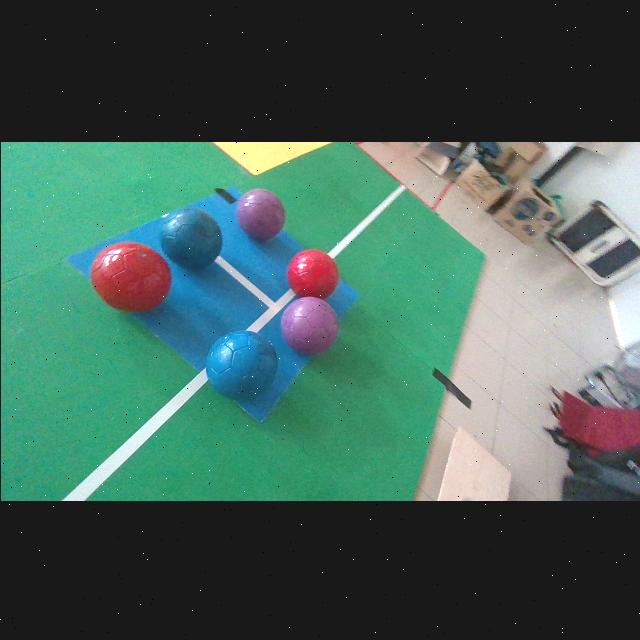B: (205, 329, 276, 399), (159, 206, 221, 267)
P: (280, 294, 336, 353), (236, 187, 284, 238)
R: (91, 241, 170, 310), (285, 247, 338, 297)
